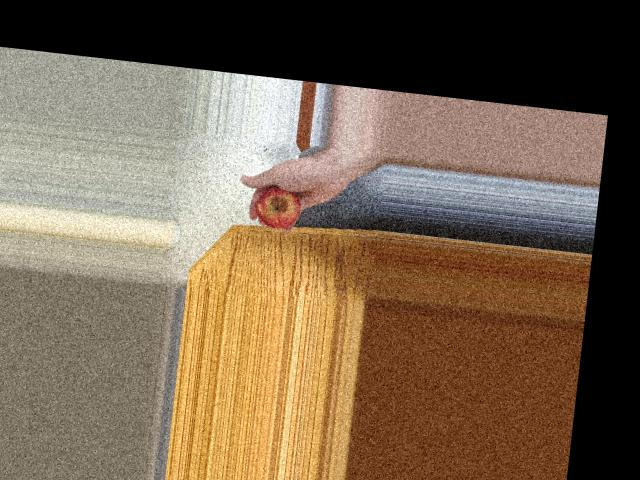apple: (250, 181, 311, 231)
